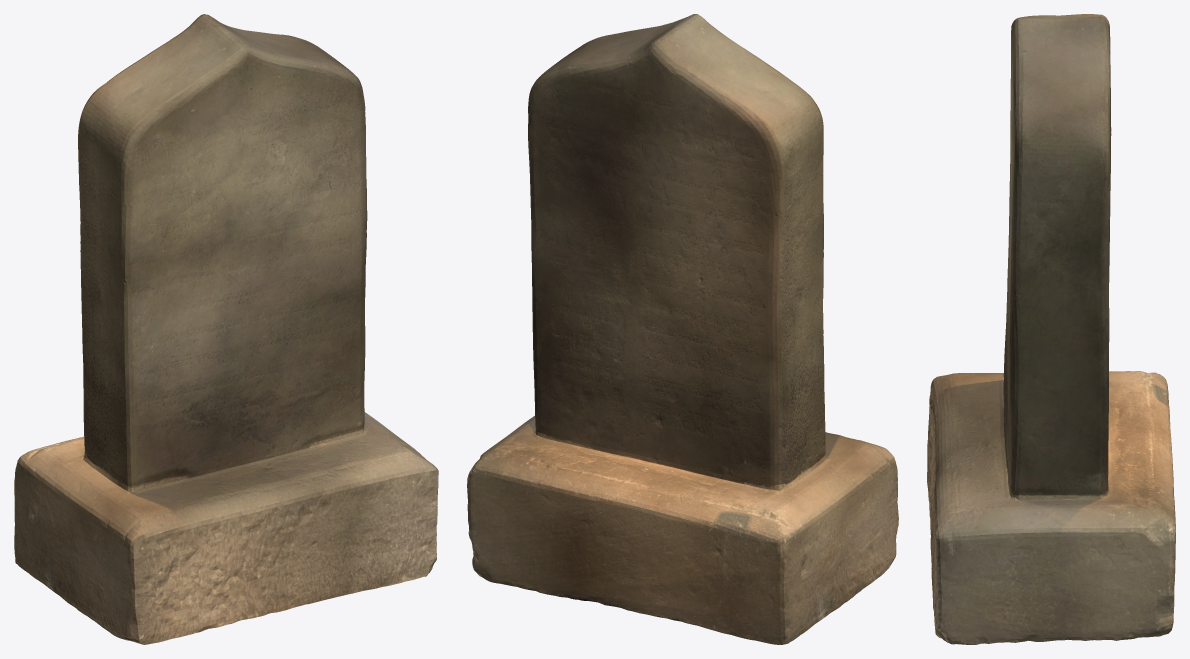
The model's file is 6_biada_final.glb.
3 views of the same model, side by side, from view 1: azimuth 30°, elevation 25°; view 2: azimuth 150°, elevation 25°; view 3: azimuth 270°, elevation 25° (orthographic).
Size of the model in its own units: 0.6974 by 1.14 by 0.4679.
1 material, 1 textured.
